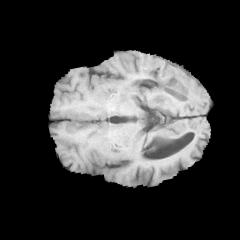glioma: (140, 54, 200, 102)
